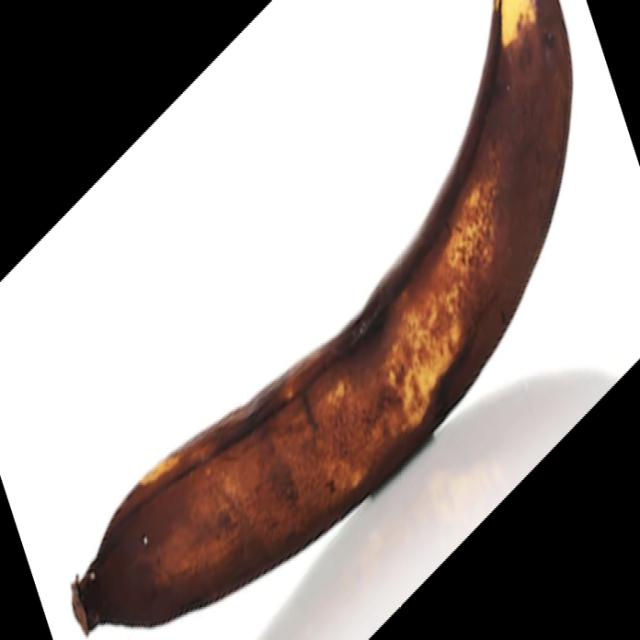Rotten: (64, 0, 583, 640)
